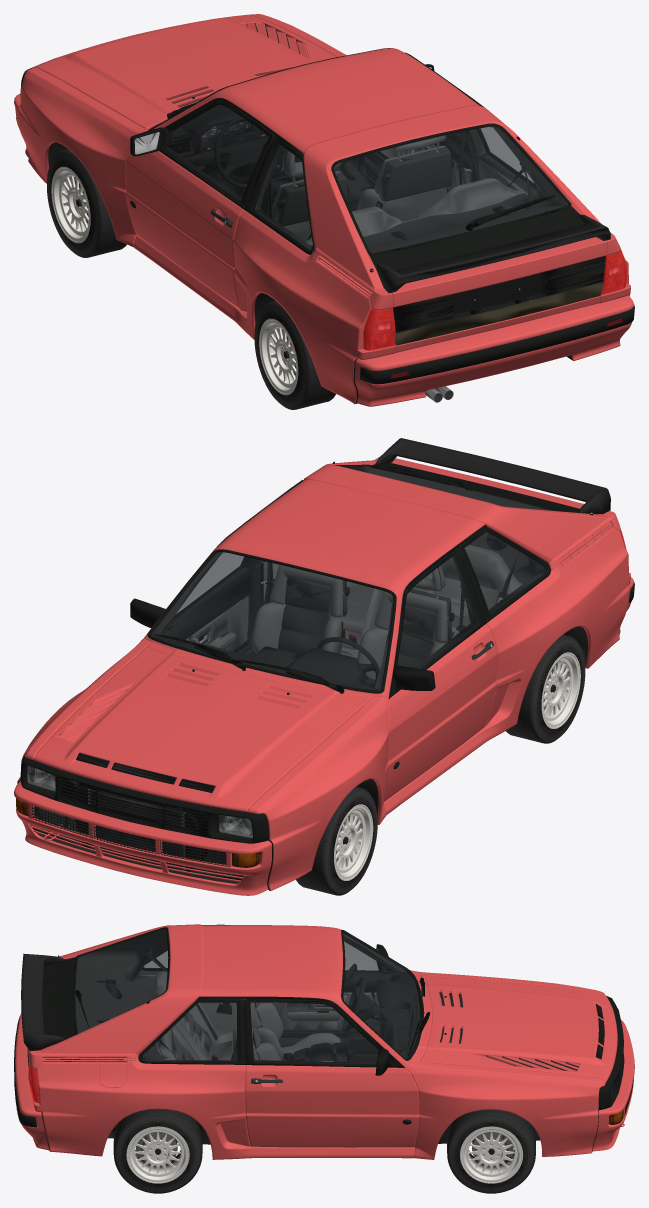
The model's file is sport_quattro.glb.
3 renders of one model, top to bottom at view 1: azimuth 30°, elevation 25°; view 2: azimuth 150°, elevation 25°; view 3: azimuth 270°, elevation 25°, orthographic. The views are drawn at different scales.
Parts seen in each view (by area): view 1: Body, Wheel_FL, Wheel_RL, SteeringWheel; view 2: Body, Wheel_RL, Wheel_FL; view 3: Body, Wheel_RR, Wheel_FR, SteeringWheel.
Part boxes in pixels (left/top/right/bottom): Body: left=14, top=14, right=634, bottom=406; Wheel_FL: left=47, top=149, right=126, bottom=257; Wheel_RL: left=254, top=301, right=335, bottom=409; SteeringWheel: left=214, top=117, right=279, bottom=188; Body: left=14, top=438, right=634, bottom=895; Wheel_RL: left=506, top=634, right=585, bottom=743; Wheel_FL: left=296, top=786, right=377, bottom=895; Body: left=14, top=924, right=634, bottom=1159; Wheel_RR: left=113, top=1109, right=202, bottom=1193; Wheel_FR: left=447, top=1109, right=535, bottom=1193; SteeringWheel: left=342, top=977, right=373, bottom=1032.
Size of the model in its own units: 1.87 by 1.36 by 4.14.
Materials: 12 (9 with a texture image).
